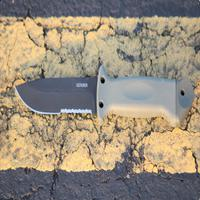knife: (7, 59, 192, 135)
